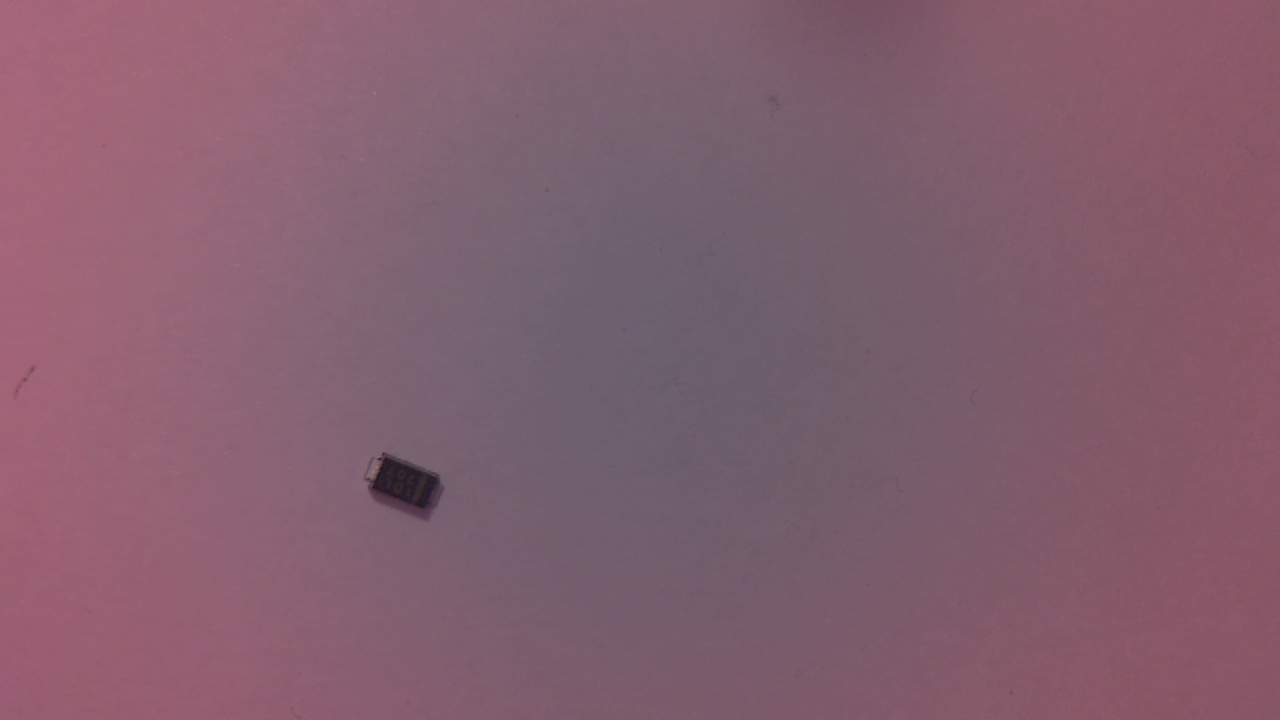Diode: (366, 456, 452, 523)
